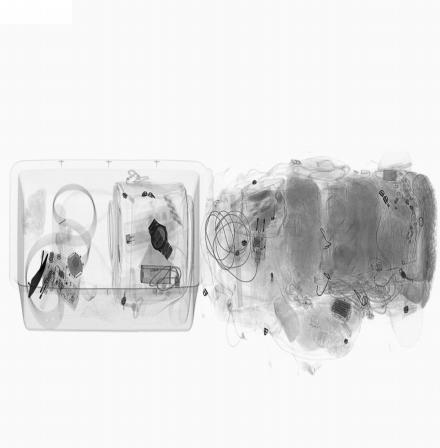Lighter: (126, 228, 158, 247)
